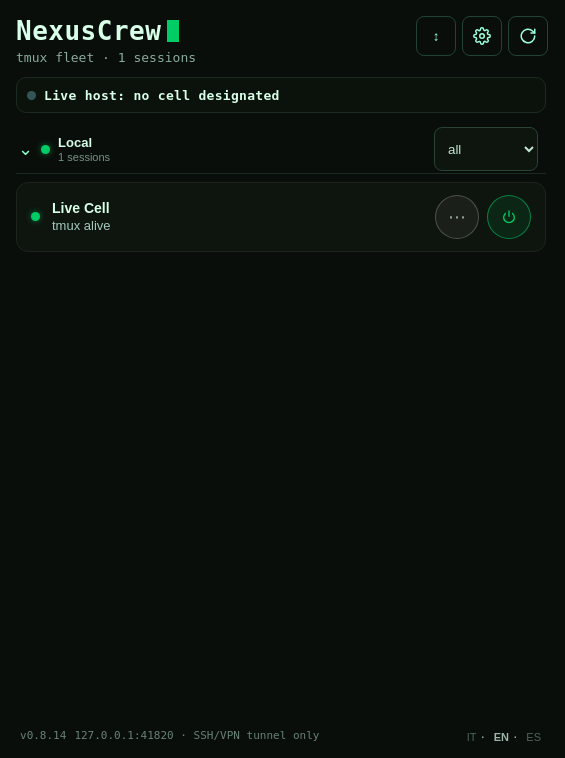
R27 — tre esiti: non letto, spento per scelta, dato vivo › CONTROLLO NEGATIVO: fleet che respinge (rete/401/5xx) — la cella resta e appare lo stale
Check: the text "Live Cell" is shown, box [52, 200, 110, 216]
What coordinates should you click on to do the following:
click the button named "refresh"
I would click on:
 (528, 36)
Its box is [508, 16, 548, 56].
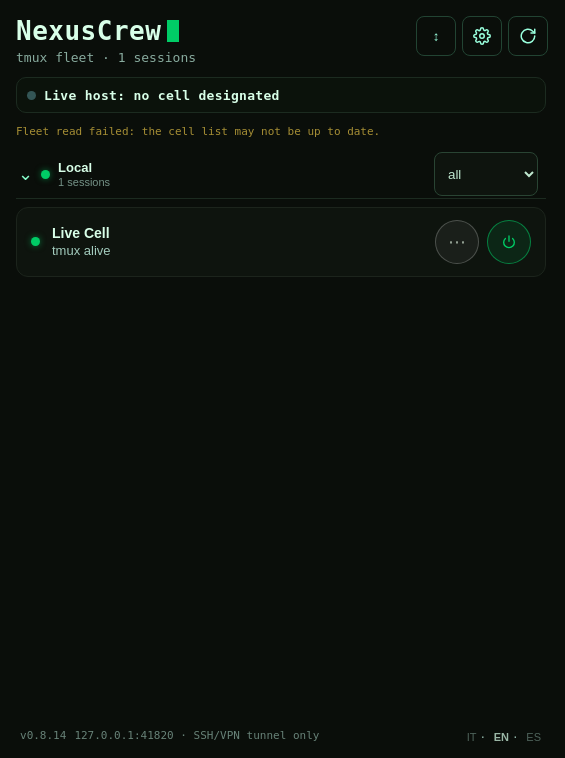
Check: the text "Live Cell" is shown, box [52, 224, 110, 240]
Check: the text "Fleet read failed: the cell list may not be up to date." is shown, box [16, 125, 380, 138]
